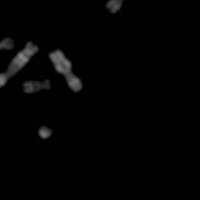chromosome: (0, 40, 37, 105), (49, 49, 82, 92), (24, 79, 51, 94), (106, 0, 132, 13), (0, 37, 14, 52), (38, 125, 51, 139)
